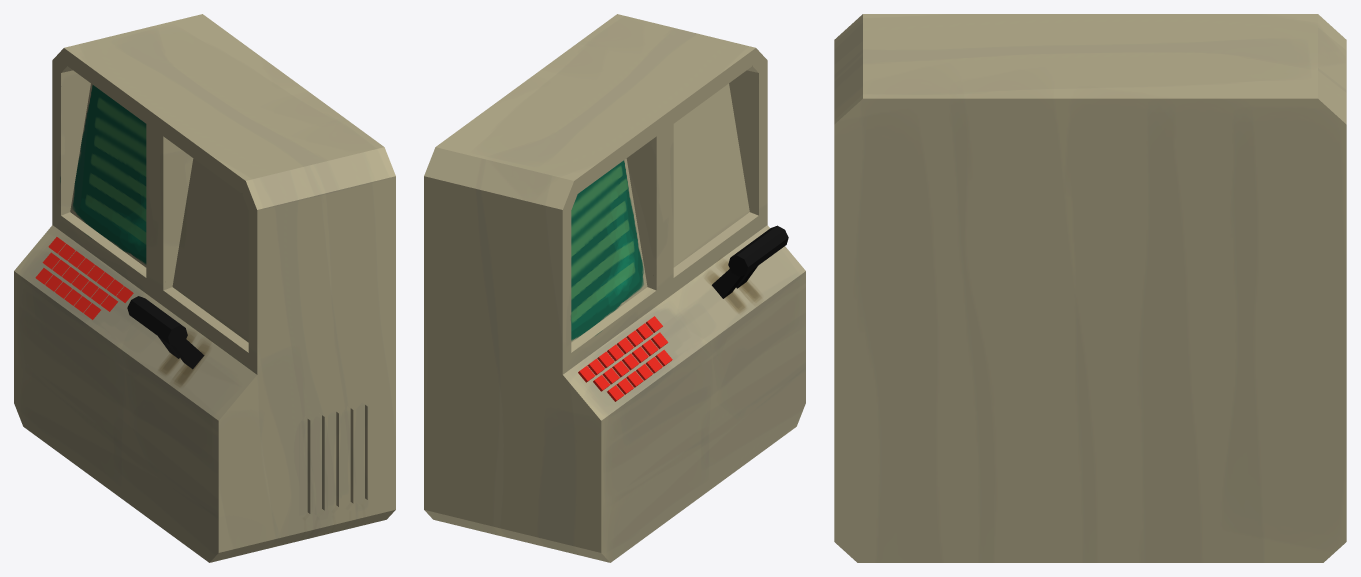
File: Computer-1.glb
The picture shows the model from 3 angles, left to right: view 1: azimuth 30°, elevation 25°; view 2: azimuth 150°, elevation 25°; view 3: azimuth 270°, elevation 25°; orthographic projection. The views are drawn at different scales.
Parts seen in each view (by area): view 1: Computer-1-col, Cube.647, Cube.645, Cube.643, Cube.644; view 2: Computer-1-col, Cube.647, Cube.645, Cube.643, Cube.644; view 3: Computer-1-col.
Part boxes in pixels (bbox=[...]): Computer-1-col: bbox=[14, 14, 395, 562]; Cube.647: bbox=[127, 296, 204, 369]; Cube.645: bbox=[48, 237, 133, 302]; Cube.643: bbox=[42, 252, 117, 311]; Cube.644: bbox=[35, 268, 100, 319]; Computer-1-col: bbox=[424, 14, 805, 562]; Cube.647: bbox=[712, 225, 788, 298]; Cube.645: bbox=[578, 316, 662, 382]; Cube.643: bbox=[593, 332, 668, 391]; Cube.644: bbox=[607, 349, 672, 401]; Computer-1-col: bbox=[834, 14, 1346, 562].
Size of the model in its own units: 0.5473 by 1 by 1.
Materials: 3 (1 with a texture image).
